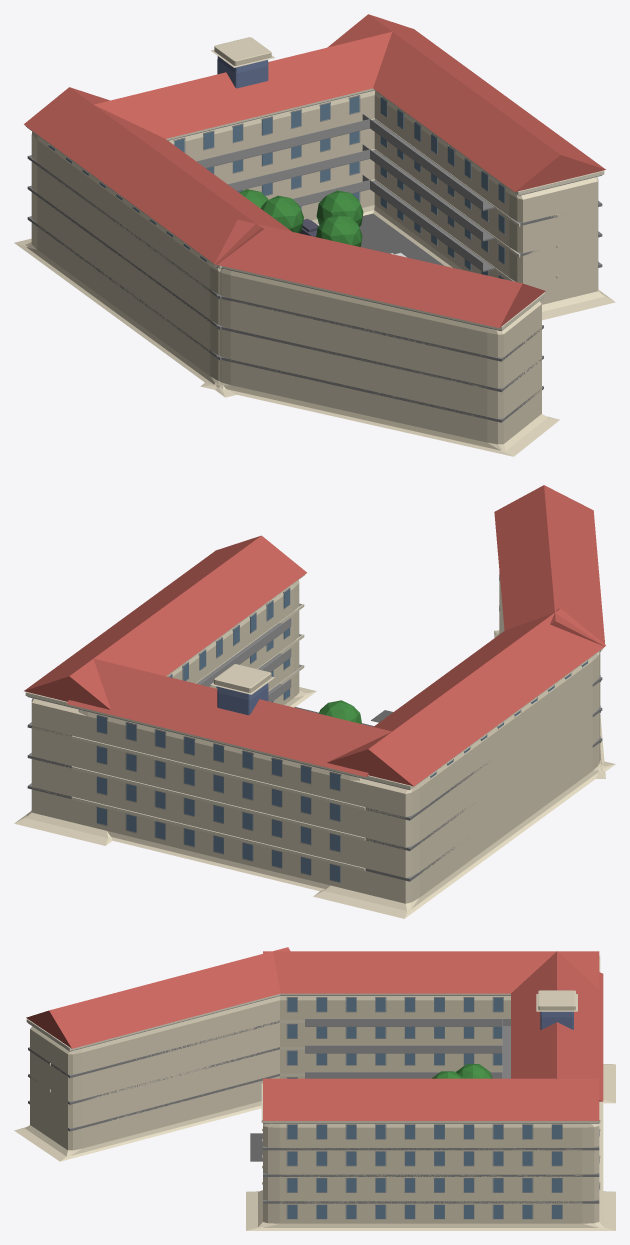
Rendered from nhaUnity1.fbx.
3 renders of one model, top to bottom at view 1: azimuth 30°, elevation 25°; view 2: azimuth 150°, elevation 25°; view 3: azimuth 270°, elevation 25°, orthographic. The views are drawn at different scales.
Visible parts, largest first — view 1: LeftWing_Body.001, LeftWing_Body, RightWing_Body, Roof_Right, Roof_Left, Roof_Left.001, Roof_Back, BackWing_Body, Courtyard, Rail_B_3, Rail_B_2, Tower_Cap (+17 smaller); view 2: LeftWing_Body, BackWing_Body, Roof_Left, Roof_Right, RightWing_Body, Roof_Back, Roof_Left.001, Tower_Cap, Band_BO_3, Band_BO_1, Band_BO_2, Tower_Body (+4 smaller); view 3: RightWing_Body, LeftWing_Body.001, Roof_Right, Roof_Left, LeftWing_Body, Roof_Left.001, Roof_Back, Rail_L_3, Rail_L_2, Floor_Right_1, Floor_Right_2, Floor_Right_3 (+11 smaller).
Part boxes in pixels (x1=…): LeftWing_Body.001: x1=200, y1=268, x2=559, y2=456; LeftWing_Body: x1=14, y1=131, x2=236, y2=397; RightWing_Body: x1=373, y1=91, x2=615, y2=320; Roof_Right: x1=327, y1=14, x2=605, y2=191; Roof_Left: x1=24, y1=87, x2=291, y2=264; Roof_Left.001: x1=214, y1=219, x2=545, y2=327; Roof_Back: x1=93, y1=31, x2=392, y2=138; BackWing_Body: x1=168, y1=90, x2=374, y2=225; Courtyard: x1=359, y1=213, x2=444, y2=265; Rail_B_3: x1=196, y1=119, x2=370, y2=167; Rail_B_2: x1=228, y1=149, x2=370, y2=190; Tower_Cap: x1=210, y1=37, x2=274, y2=67; LeftWing_Body: x1=313, y1=653, x2=615, y2=918; BackWing_Body: x1=78, y1=709, x2=361, y2=891; Roof_Left: x1=327, y1=608, x2=605, y2=786; Roof_Right: x1=24, y1=535, x2=306, y2=709; RightWing_Body: x1=14, y1=580, x2=316, y2=845; Roof_Back: x1=66, y1=659, x2=391, y2=776; Roof_Left.001: x1=494, y1=485, x2=605, y2=646; Tower_Cap: x1=210, y1=664, x2=274, y2=694; Band_BO_3: x1=71, y1=735, x2=364, y2=810; Band_BO_1: x1=71, y1=796, x2=364, y2=871; Band_BO_2: x1=71, y1=766, x2=364, y2=840; Tower_Body: x1=217, y1=683, x2=268, y2=715; RightWing_Body: x1=246, y1=1123, x2=615, y2=1230; LeftWing_Body.001: x1=14, y1=996, x2=279, y2=1161; Roof_Right: x1=263, y1=1078, x2=599, y2=1120; Roof_Left: x1=263, y1=951, x2=599, y2=993; LeftWing_Body: x1=280, y1=996, x2=615, y2=1103; Roof_Left.001: x1=26, y1=947, x2=290, y2=1048; Roof_Back: x1=511, y1=951, x2=603, y2=1101; Rail_L_3: x1=305, y1=1018, x2=510, y2=1026; Rail_L_2: x1=305, y1=1045, x2=502, y2=1053; Floor_Right_1: x1=263, y1=1199, x2=599, y2=1203; Floor_Right_2: x1=263, y1=1173, x2=599, y2=1176; Floor_Right_3: x1=263, y1=1146, x2=599, y2=1150.
Bounding box in the file's own units: 4783 × 1975 × 7162.
